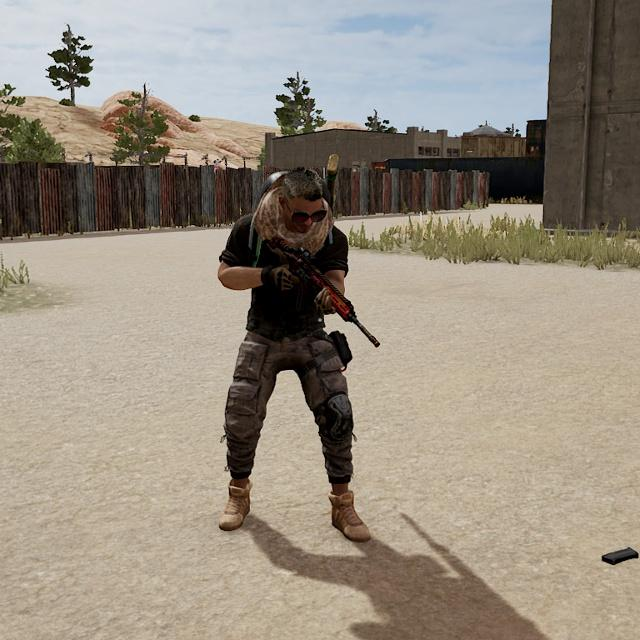head: (278, 165, 330, 243)
people: (204, 163, 378, 548)
